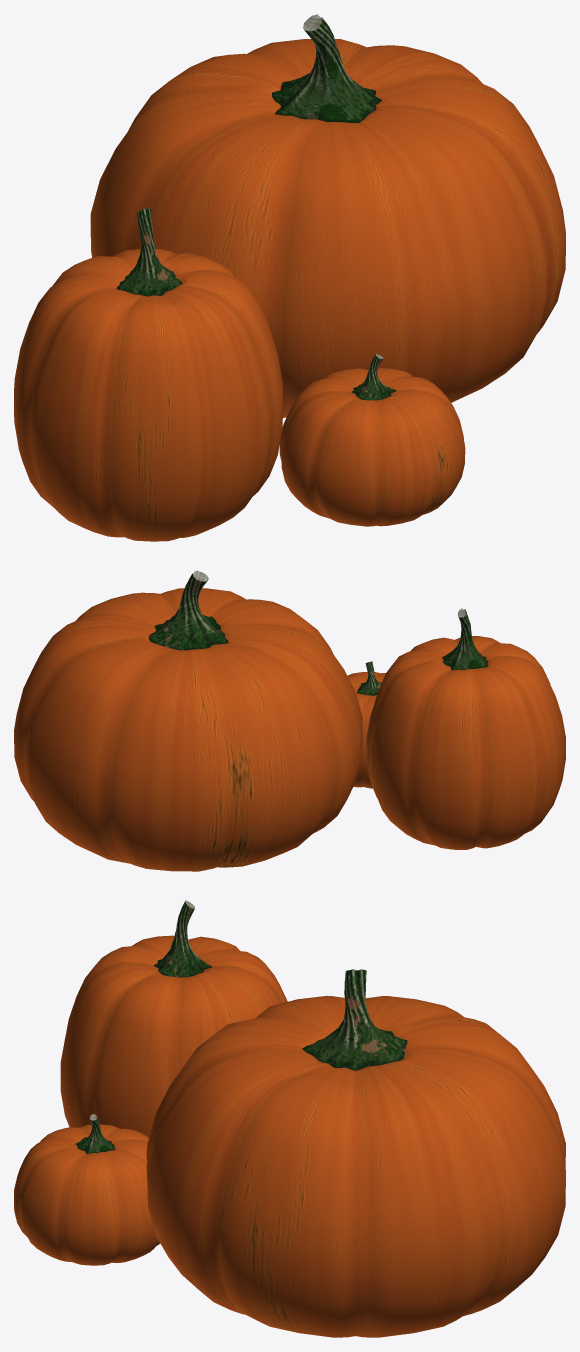
The model's file is pumpkins_model..glb.
3 renders of one model, top to bottom at view 1: azimuth 30°, elevation 25°; view 2: azimuth 150°, elevation 25°; view 3: azimuth 270°, elevation 25°, orthographic. The views are drawn at different scales.
Parts seen in each view (by area): view 1: pumpkin_lp, pumpkin_lp1, pumpkin_lp2; view 2: pumpkin_lp, pumpkin_lp1, pumpkin_lp2; view 3: pumpkin_lp, pumpkin_lp1, pumpkin_lp2.
Part boxes in pixels (<box>): pumpkin_lp: <box>90,14,565,417</box>; pumpkin_lp1: <box>14,207,282,541</box>; pumpkin_lp2: <box>279,354,465,526</box>; pumpkin_lp: <box>14,570,362,871</box>; pumpkin_lp1: <box>366,608,565,849</box>; pumpkin_lp2: <box>347,661,385,788</box>; pumpkin_lp: <box>146,969,565,1337</box>; pumpkin_lp1: <box>60,900,287,1137</box>; pumpkin_lp2: <box>14,1114,160,1265</box>.
Size of the model in its own units: 10.25 by 5.91 by 9.18.
1 material, 1 textured.
